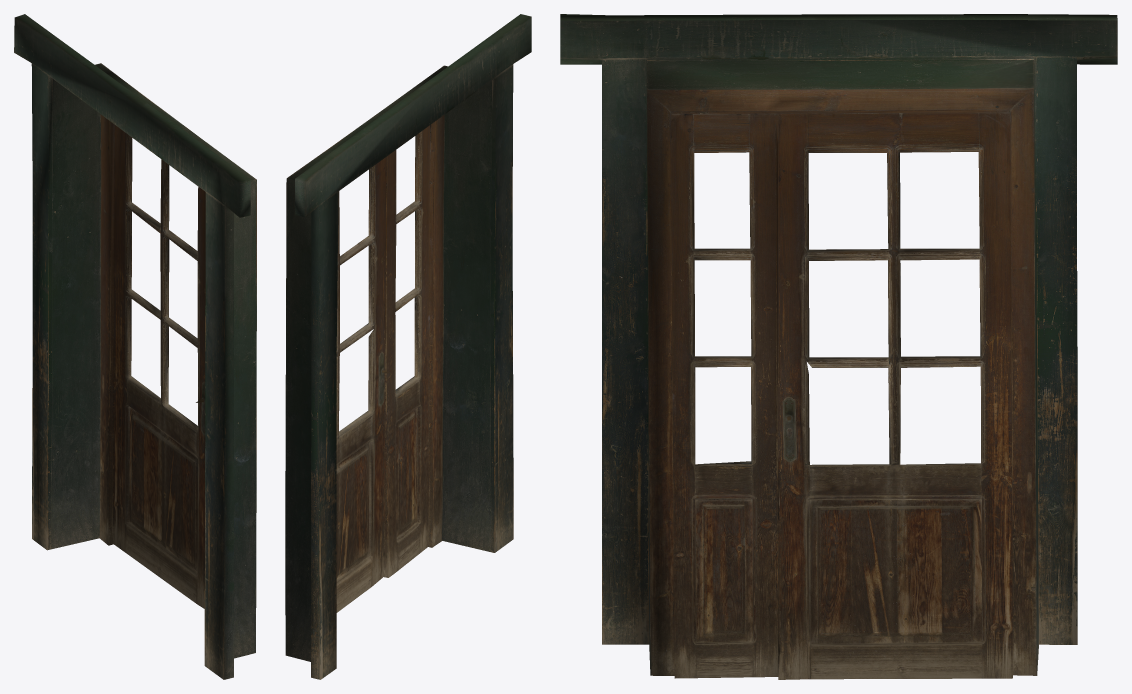
File: House_Door_01.fbx
The picture shows the model from 3 angles, left to right: view 1: azimuth 30°, elevation 25°; view 2: azimuth 150°, elevation 25°; view 3: azimuth 270°, elevation 25°; orthographic projection. The views are drawn at different scales.
Visible parts, largest first — view 1: House_Door_01; view 2: House_Door_01; view 3: House_Door_01.
Part boxes in pixels (left/top/right/bottom): House_Door_01: left=14, top=14, right=256, bottom=679; House_Door_01: left=285, top=14, right=531, bottom=679; House_Door_01: left=560, top=14, right=1117, bottom=679.
Bounding box in the file's own units: 33.07 × 250 × 200.
1 material, 1 textured.
